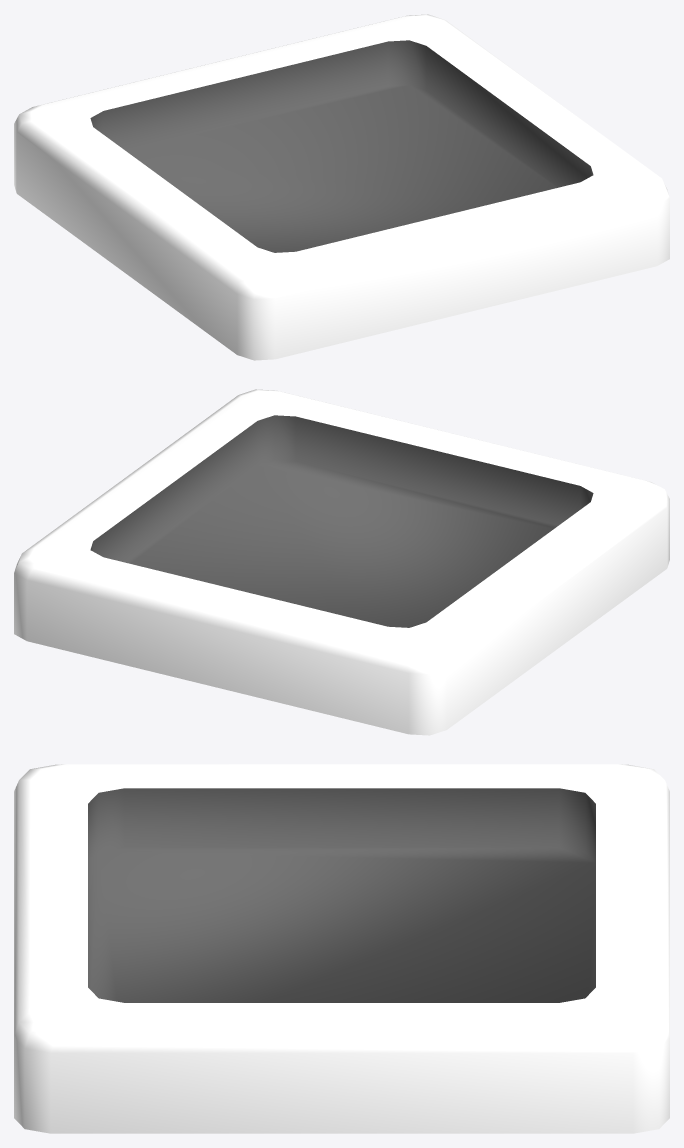
File: button_base_square.glb
3 renders of one model, top to bottom at view 1: azimuth 30°, elevation 25°; view 2: azimuth 150°, elevation 25°; view 3: azimuth 270°, elevation 25°, orthographic. The views are drawn at different scales.
Parts seen in each view (by area): view 1: SquareButtonBase; view 2: SquareButtonBase; view 3: SquareButtonBase.
Part boxes in pixels (<box>): SquareButtonBase: <box>14,14,669,360</box>; SquareButtonBase: <box>14,389,669,735</box>; SquareButtonBase: <box>14,764,669,1133</box>.
Bounding box in the file's own units: 0.2754 × 0.0461 × 0.2754.
1 material, 1 textured.
